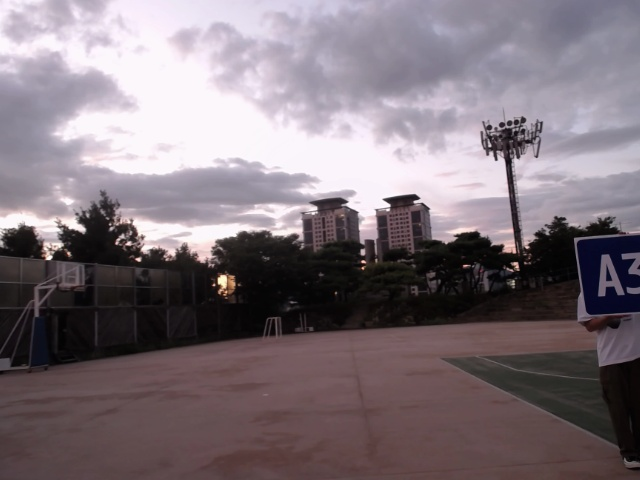delivery_a3: (573, 234, 639, 316)
